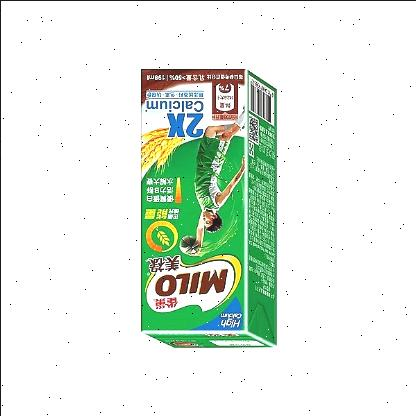Others: (140, 68, 275, 347)
